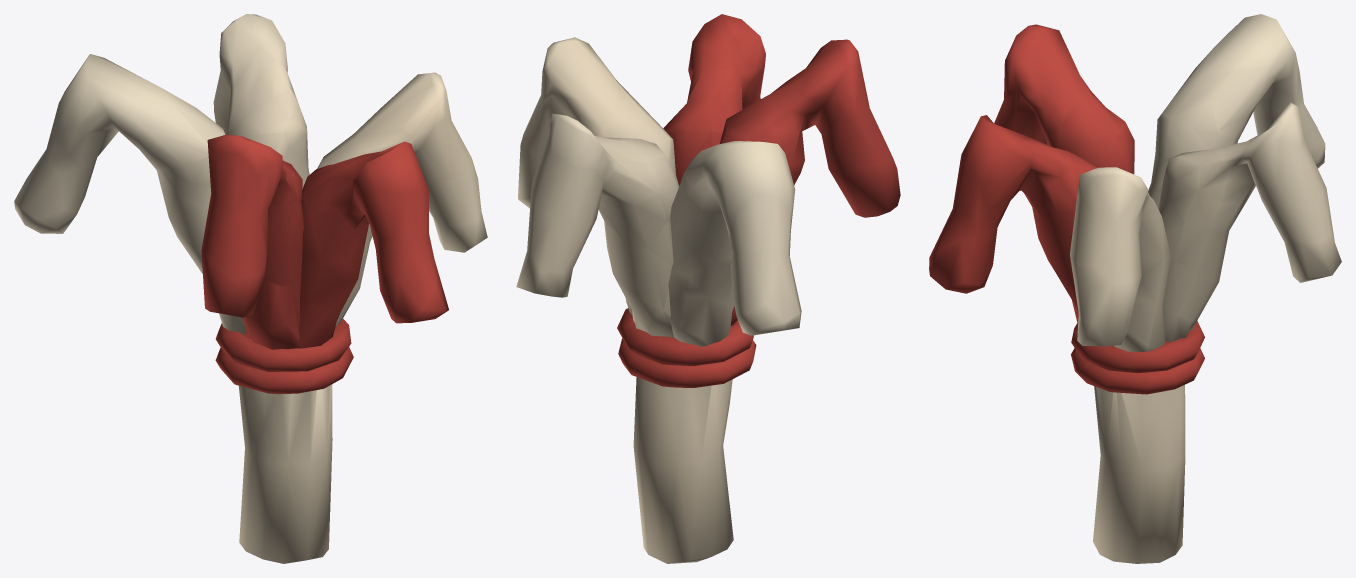
File: den_fringe_tassel_c_lod1.glb
3 views of the same model, side by side, from view 1: azimuth 30°, elevation 25°; view 2: azimuth 150°, elevation 25°; view 3: azimuth 270°, elevation 25° (orthographic). The views are drawn at different scales.
Parts seen in each view (by area): view 1: den_fringe_tassel_c.001; view 2: den_fringe_tassel_c.001; view 3: den_fringe_tassel_c.001.
Boxes of the visible parts, x1,y1,x2,y2 form: den_fringe_tassel_c.001: [14, 14, 487, 563]; den_fringe_tassel_c.001: [516, 14, 900, 563]; den_fringe_tassel_c.001: [929, 14, 1341, 563].
Size of the model in its own units: 5.59 by 6.98 by 5.53.
